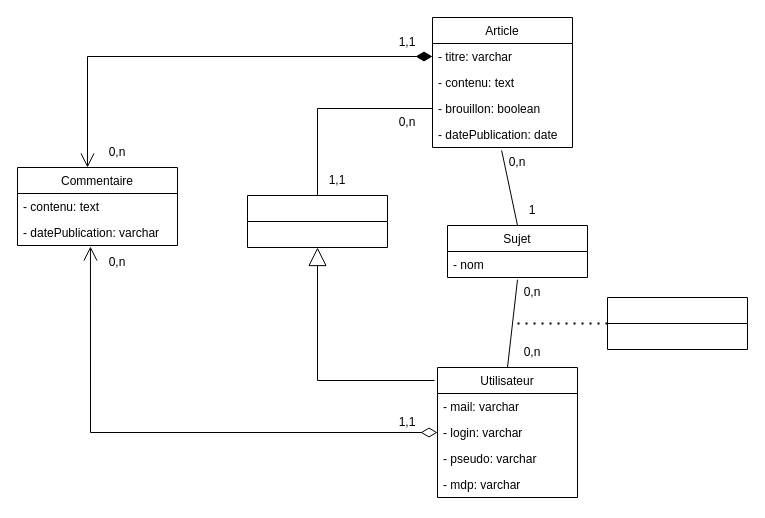
The diagram is 765 pixels wide and 518 high, and some of its shapes have lost their labels. Each missing label, with the centre of its shape:
Abonnement: point (677, 323)
Admin: point (317, 221)
